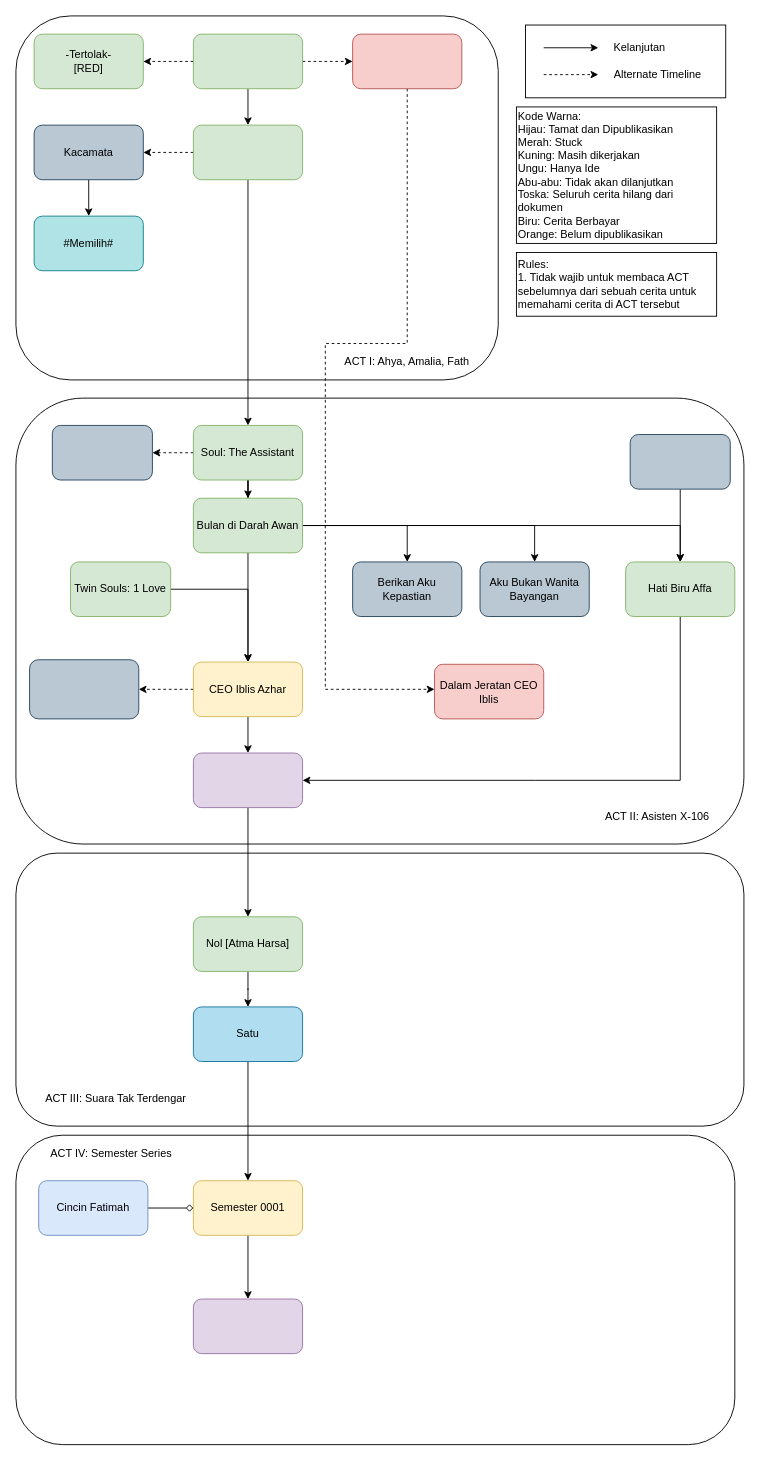
The diagram is 760 pixels wide and 1461 high, and some of its shapes have lost their labels. Each missing label, with the centre of its shape:
"*Harapan*" belongs at point (247, 152).
"-Tertolak- [ORIGINAL]" belongs at point (247, 61).
"A*" belongs at point (679, 461).
"Dalam Cahaya" belongs at point (407, 61).
"Impian Soul" belongs at point (101, 452).
"Langkah Talbis" belongs at point (247, 780).
"Quid Pro Quo" belongs at point (84, 689).
"Semester 0x01" belongs at point (247, 1326).
